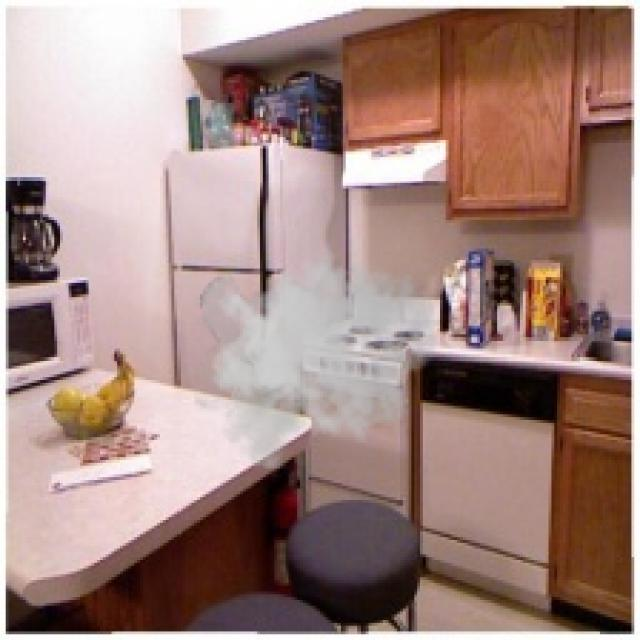smoke: (194, 234, 440, 469)
